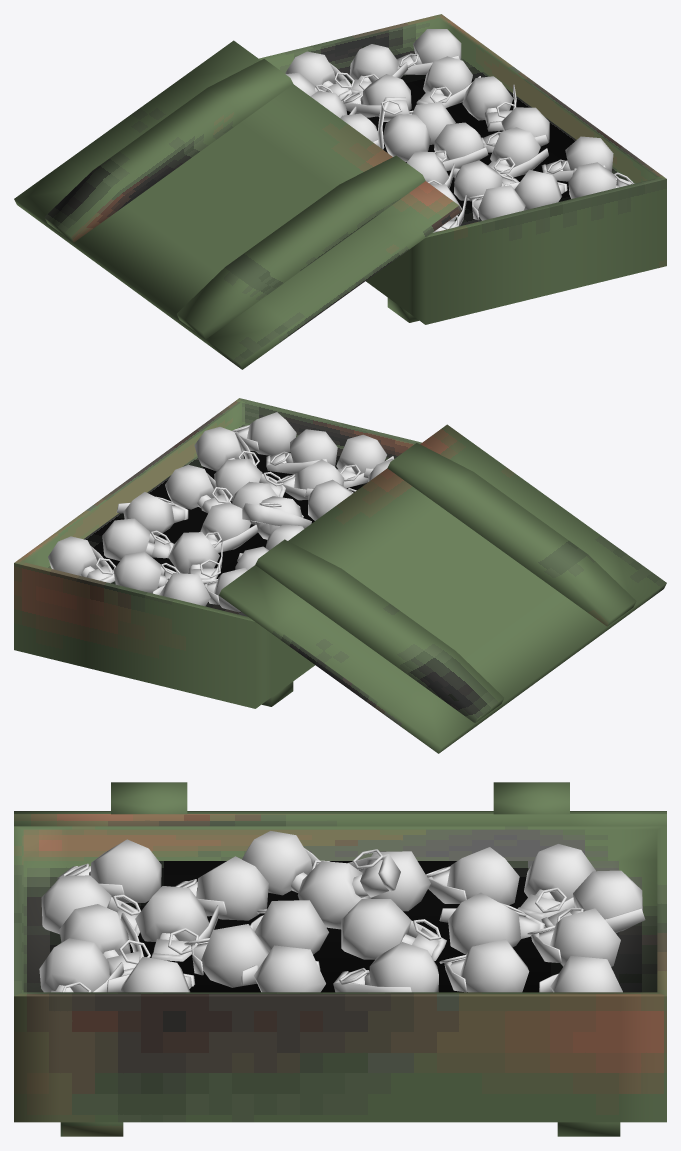
The model's file is GRANADE_BOX_UNWRAPPED.fbx.
The picture shows the model from 3 angles, top to bottom: view 1: azimuth 30°, elevation 25°; view 2: azimuth 150°, elevation 25°; view 3: azimuth 270°, elevation 25°; orthographic projection. The views are drawn at different scales.
Parts seen in each view (by area): view 1: box_cover, box, bomb_sphere, granade_pin, granade_fuse, granade_pin_ring; view 2: box_cover, box, bomb_sphere, granade_pin, granade_fuse, granade_pin_ring; view 3: box, bomb_sphere, box_cover, granade_pin, granade_fuse, granade_pin_ring.
Part boxes in pixels (x1,y1,x2,y2): box_cover: (14, 40, 461, 369); box: (259, 14, 666, 324); bomb_sphere: (285, 29, 619, 221); granade_pin: (315, 55, 634, 232); granade_fuse: (321, 54, 627, 230); granade_pin_ring: (315, 53, 633, 229); box_cover: (219, 424, 666, 753); box: (14, 398, 421, 708); bomb_sphere: (48, 412, 393, 612); granade_pin: (90, 431, 393, 604); granade_fuse: (86, 427, 355, 592); granade_pin_ring: (95, 425, 360, 584); box: (14, 826, 666, 1136); bomb_sphere: (39, 831, 642, 992); box_cover: (14, 782, 666, 826); granade_pin: (57, 848, 645, 992); granade_fuse: (51, 859, 571, 992); granade_pin_ring: (62, 849, 583, 992).
Bounding box in the file's own units: 2760 × 785 × 2503.
Materials: 2 (2 with a texture image).
